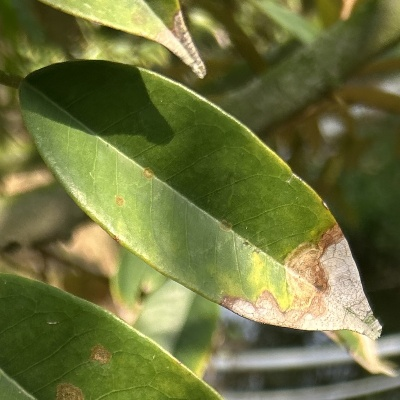Leaf_Colletotrichum: (11, 58, 399, 381)
